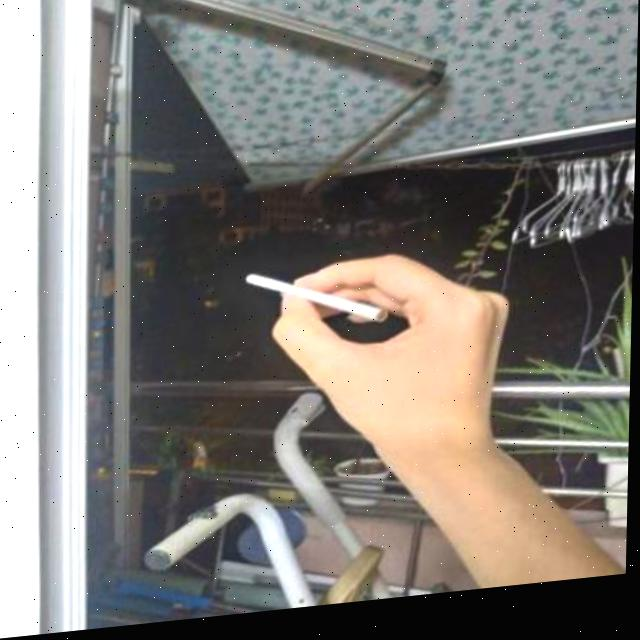cigarette: (241, 265, 394, 346)
